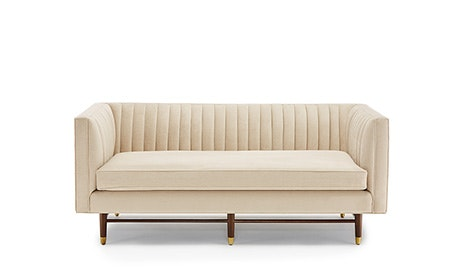chairs: (73, 103, 389, 247)
